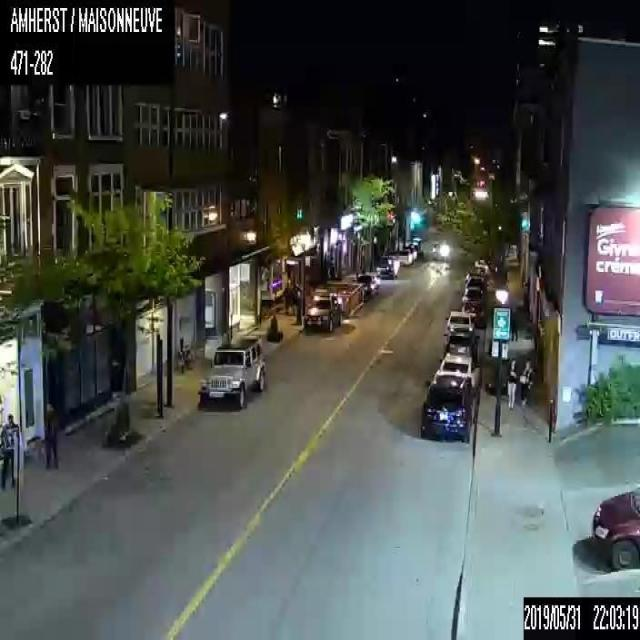pedestrian: (0, 412, 18, 487), (42, 402, 56, 466), (519, 358, 533, 410), (505, 356, 518, 411), (291, 280, 300, 315), (510, 300, 517, 341), (284, 278, 290, 313)
vehicle: (196, 332, 266, 408), (591, 487, 639, 569), (420, 374, 473, 441), (431, 354, 481, 389), (304, 292, 344, 332), (442, 330, 478, 360), (444, 310, 476, 336), (460, 300, 487, 328), (354, 273, 378, 300), (376, 255, 399, 278), (461, 287, 486, 305), (464, 277, 487, 292), (396, 248, 413, 264), (403, 244, 416, 261), (464, 271, 480, 281)
